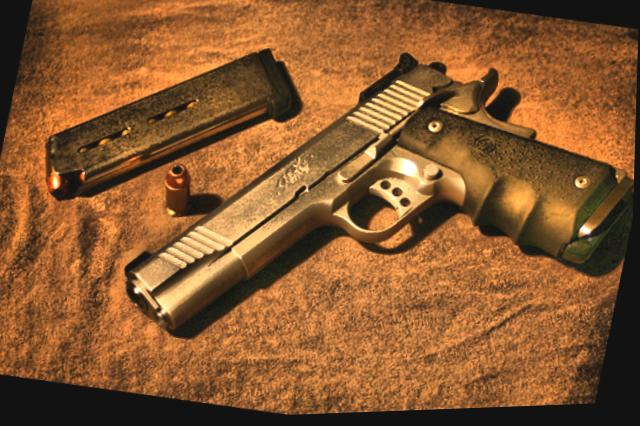pistol: (110, 2, 640, 411)
